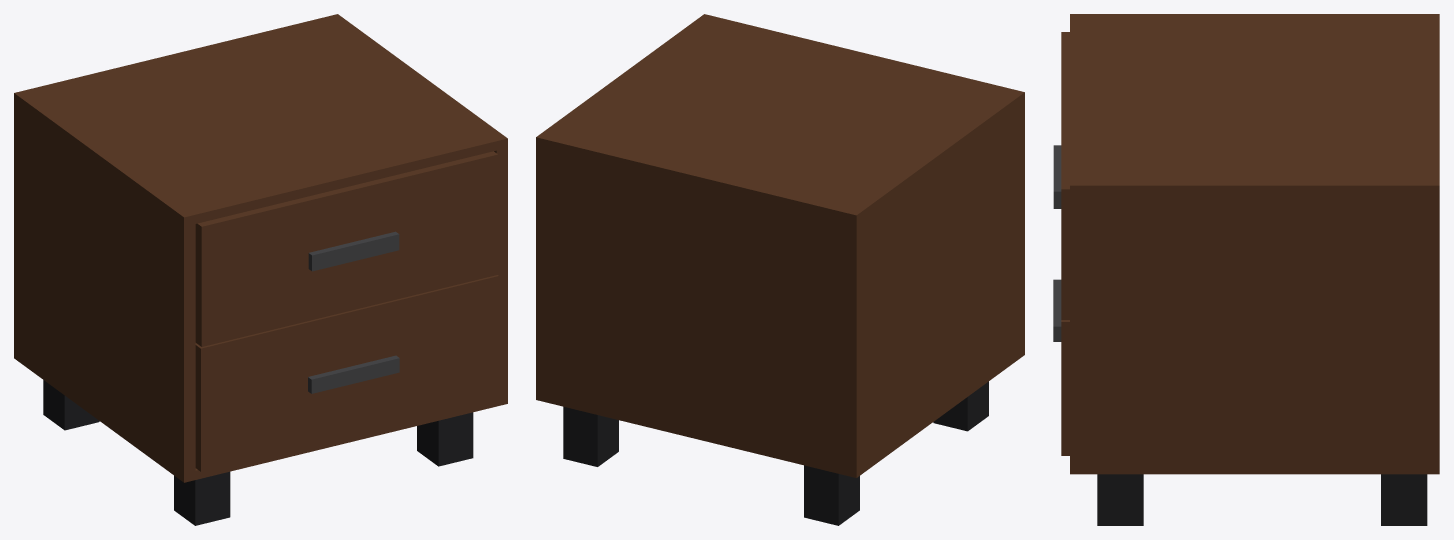
File: Komodin.fbx
The picture shows the model from 3 angles, left to right: view 1: azimuth 30°, elevation 25°; view 2: azimuth 150°, elevation 25°; view 3: azimuth 270°, elevation 25°; orthographic projection. The views are drawn at different scales.
Visible parts, largest first — view 1: Komodin, Komodin_çekmece_2, Komodin_çekmece_1; view 2: Komodin; view 3: Komodin, Komodin_çekmece_1, Komodin_çekmece_2.
Boxes of the visible parts, box(x1,y1,x2,y2) form: Komodin: box(14, 14, 507, 525); Komodin_çekmece_2: box(195, 275, 498, 471); Komodin_çekmece_1: box(195, 151, 497, 346); Komodin: box(536, 14, 1024, 525); Komodin: box(1070, 14, 1439, 525); Komodin_çekmece_1: box(1053, 32, 1069, 319); Komodin_çekmece_2: box(1053, 279, 1069, 455).
Size of the model in its own units: 117 by 112 by 112.
